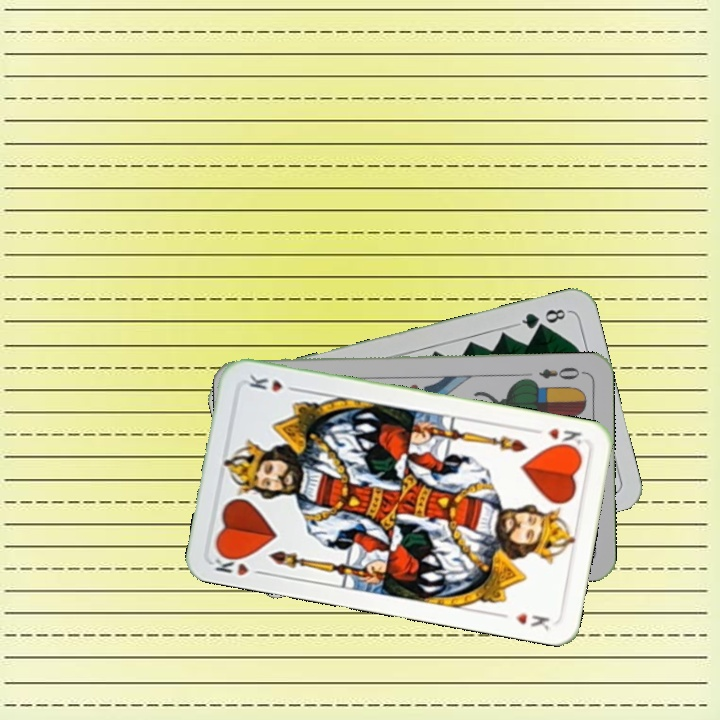EO: (535, 363, 587, 383)
G8: (513, 304, 571, 332)
HK: (210, 548, 268, 579), (528, 424, 584, 452)
